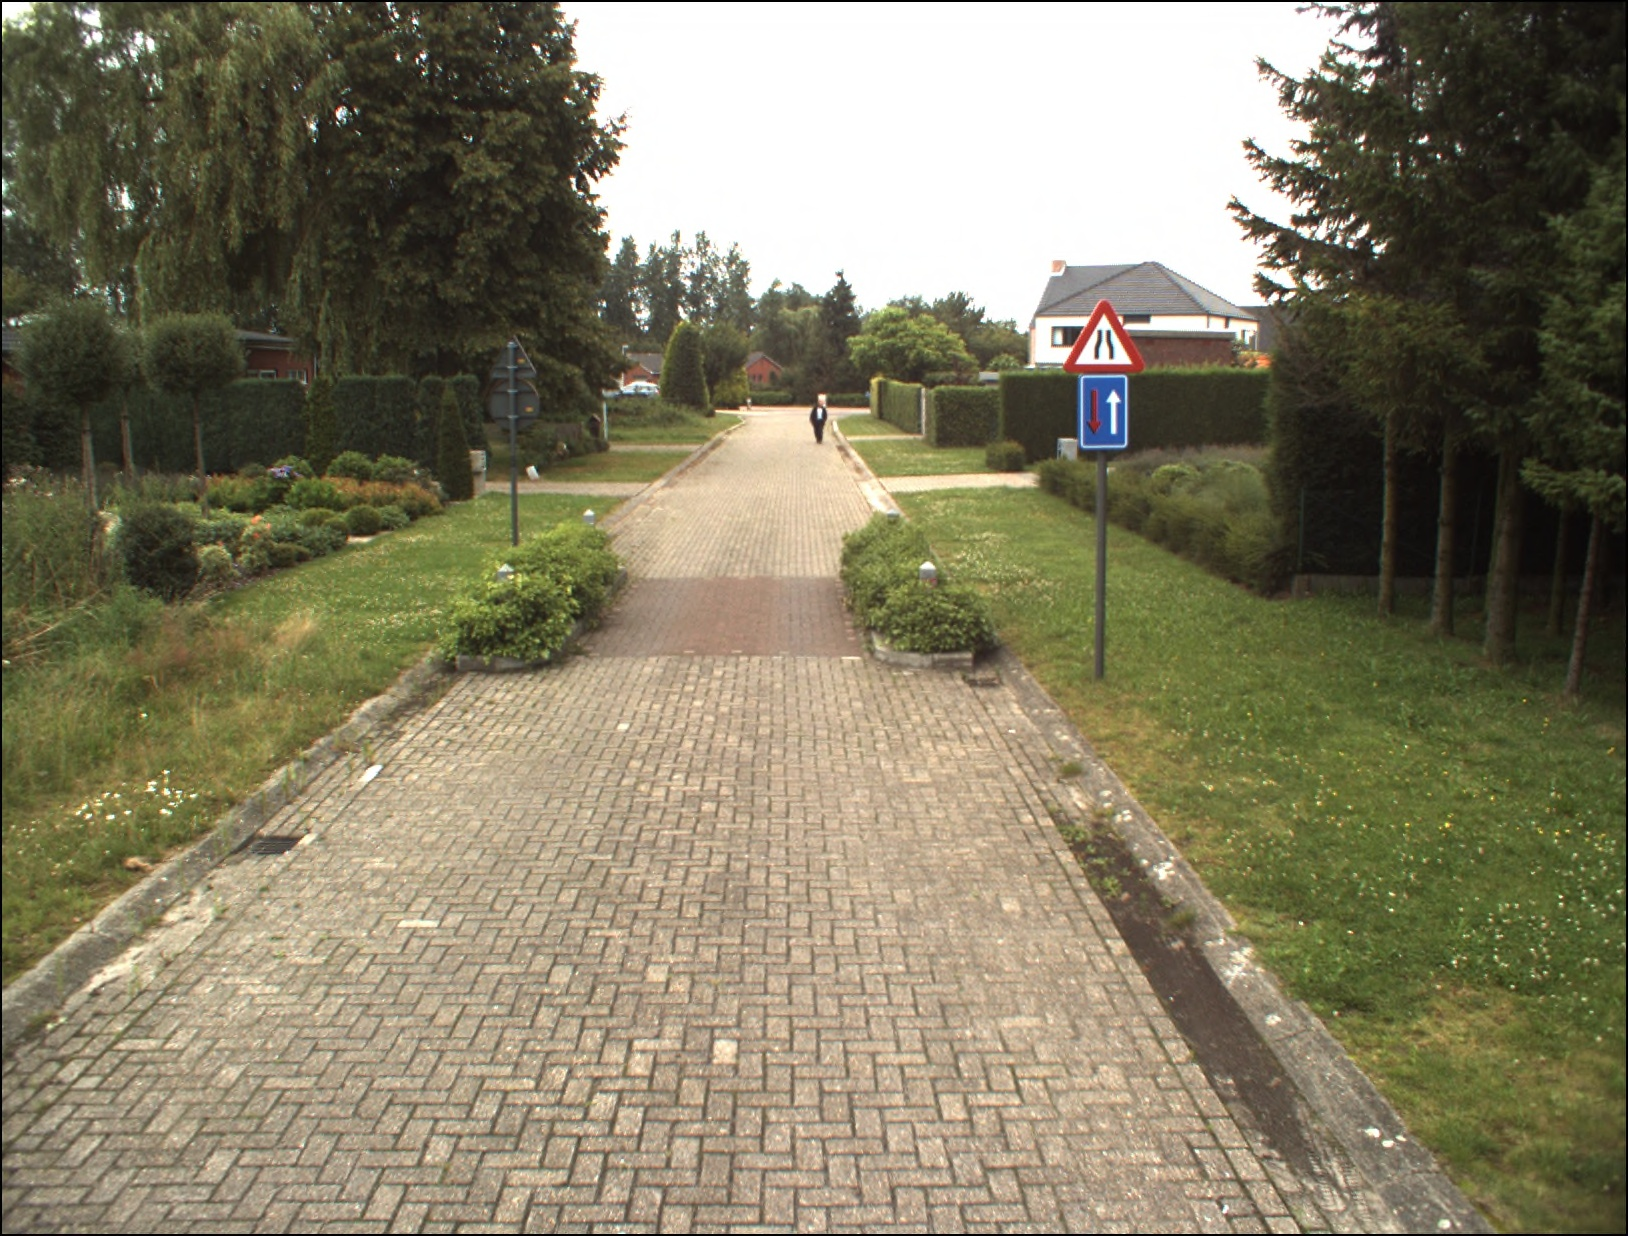roadnarrow1: (1078, 371, 1129, 451)
